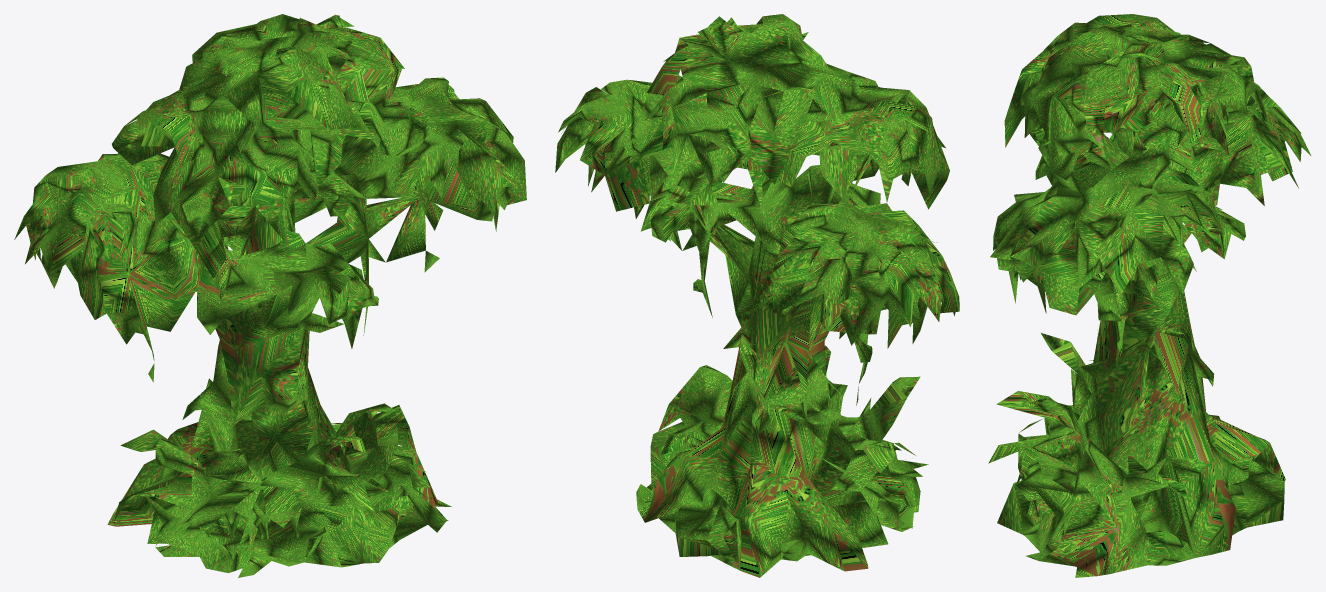
The model's file is tree.lod.rt.glb.
3 renders of one model, left to right at view 1: azimuth 30°, elevation 25°; view 2: azimuth 150°, elevation 25°; view 3: azimuth 270°, elevation 25°, orthographic. The views are drawn at different scales.
Visible parts, largest first — view 1: output_unwrapped; view 2: output_unwrapped; view 3: output_unwrapped.
Part boxes in pixels (x1,y1,x2,y2): output_unwrapped: (14, 14, 526, 577); output_unwrapped: (555, 14, 959, 577); output_unwrapped: (988, 14, 1311, 577).
Bounding box in the file's own units: 1.78 × 1.88 × 1.14.
1 material, 1 textured.
